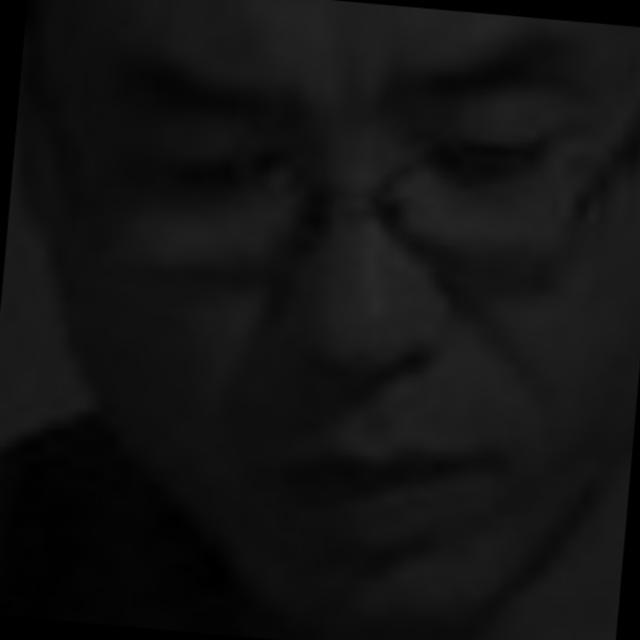Sad: (49, 32, 640, 589)
